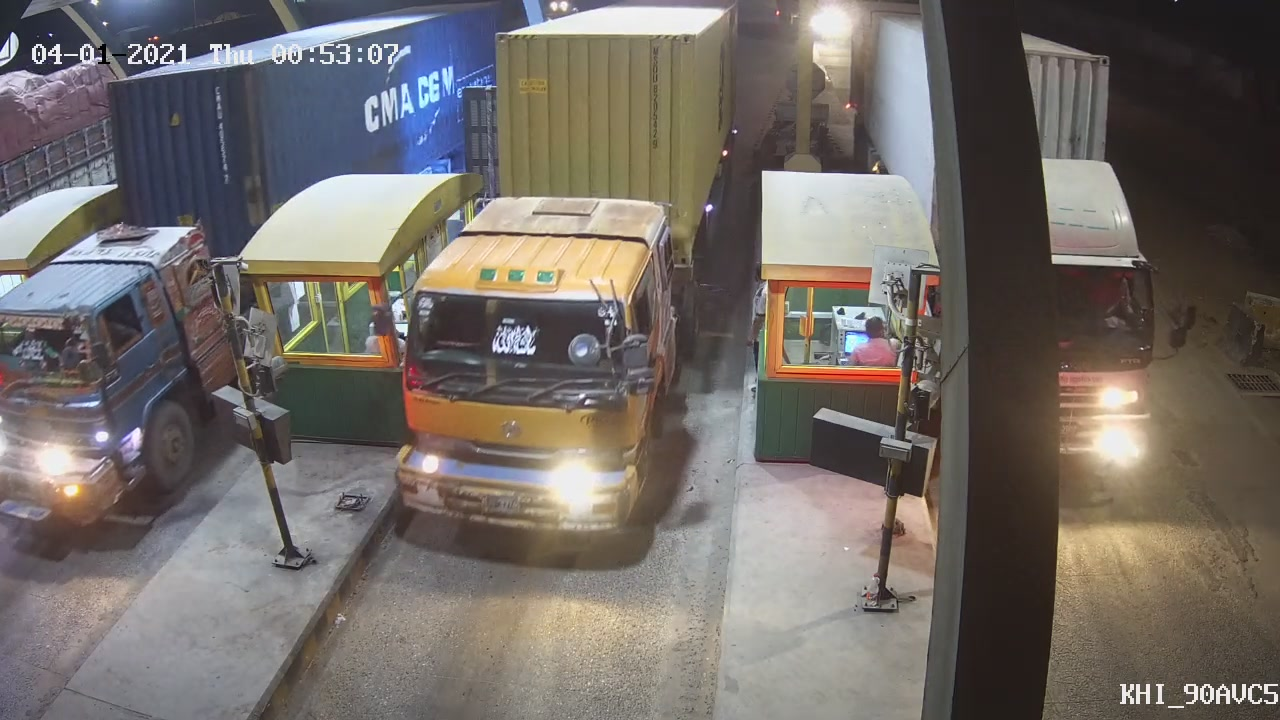F5: (387, 5, 749, 565)
